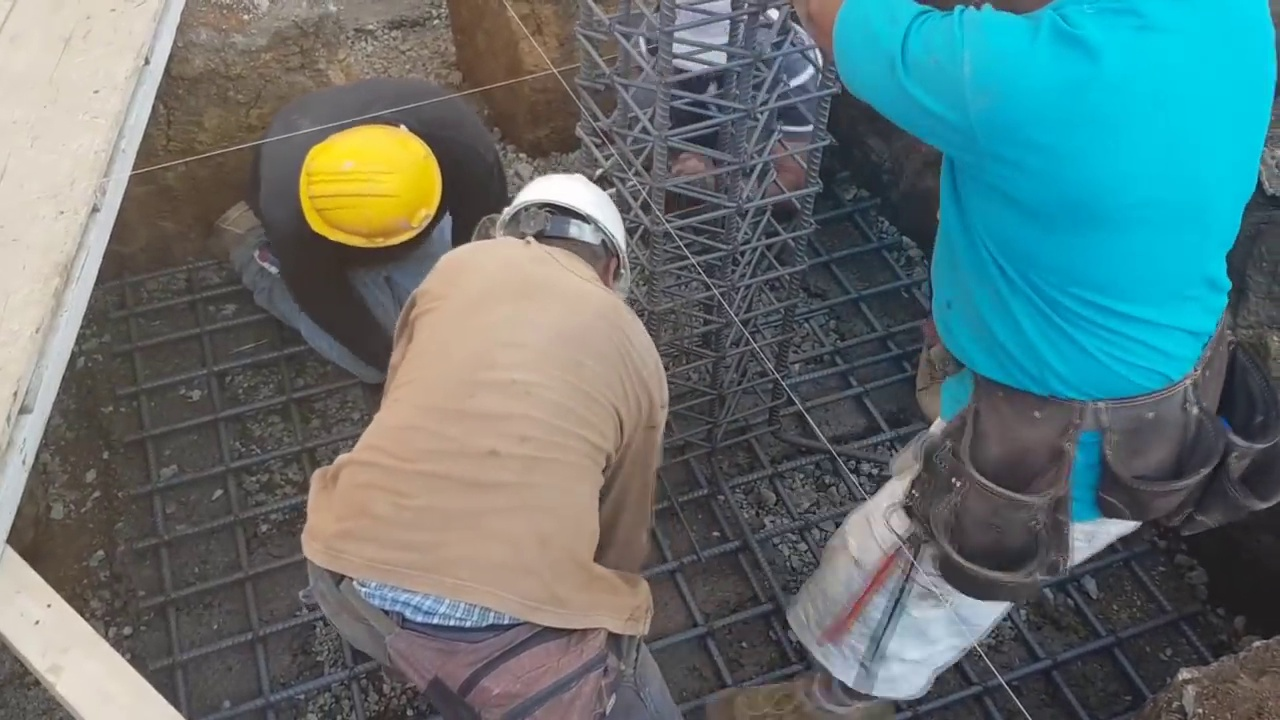helmet: (290, 117, 450, 250), (493, 173, 637, 298), (660, 0, 739, 72)
person: (764, 0, 1273, 691), (292, 172, 673, 720), (239, 78, 507, 374), (630, 0, 834, 231)
